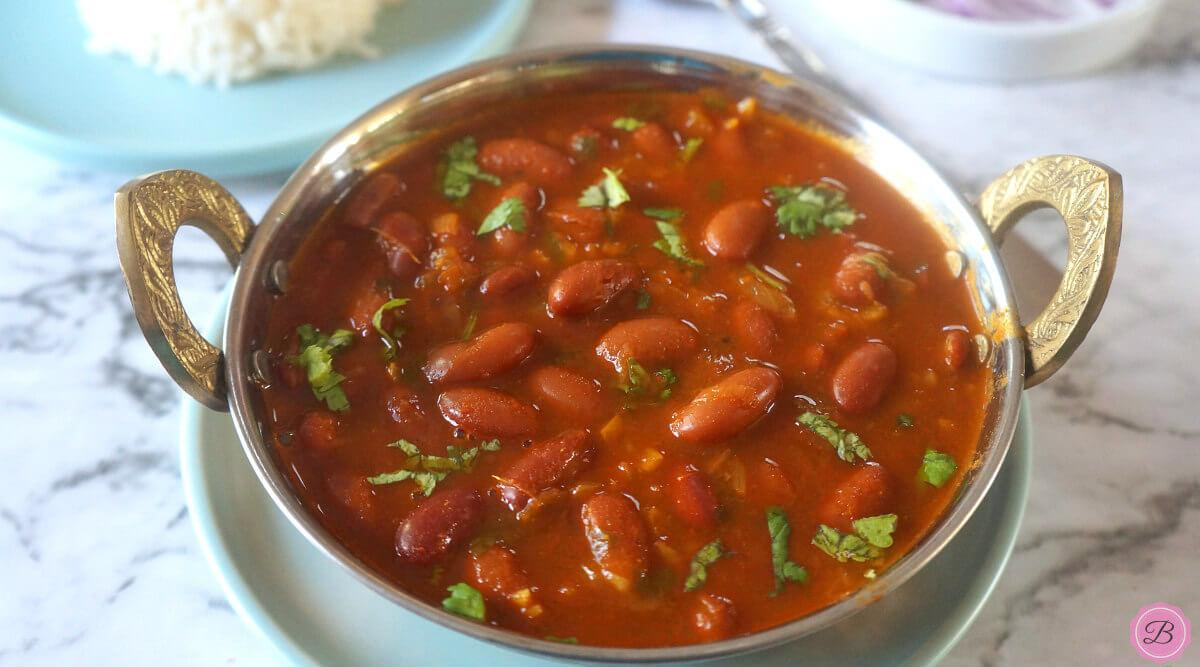rajma: (338, 110, 978, 628)
